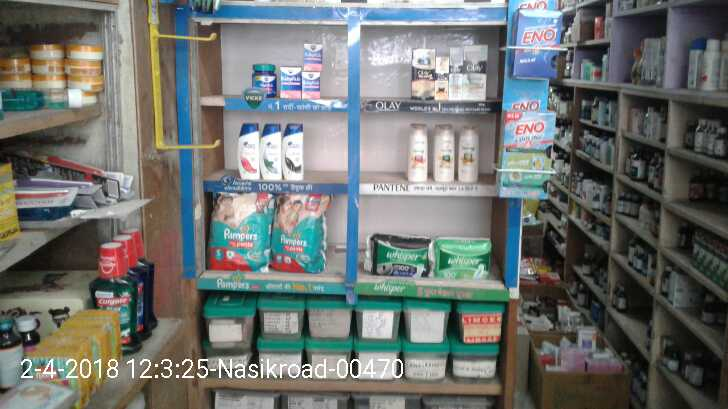vicks: (250, 39, 322, 96)
